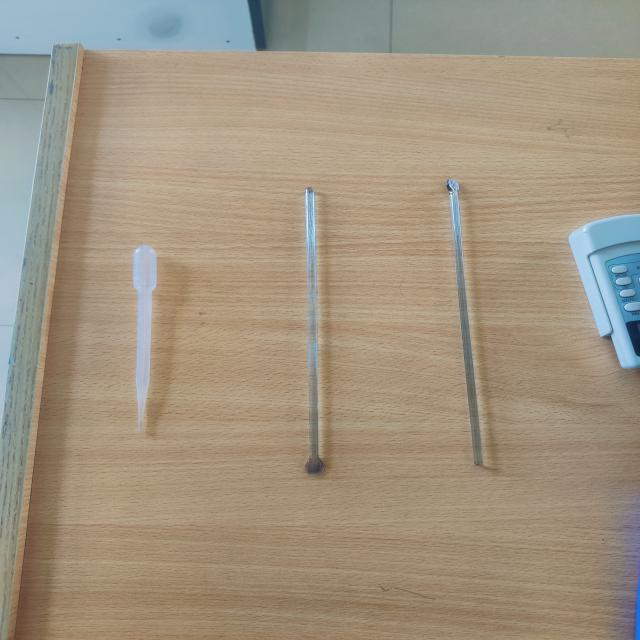Glass_Rod: (414, 144, 538, 490), (267, 162, 377, 496)
Pipette: (78, 192, 204, 467)
